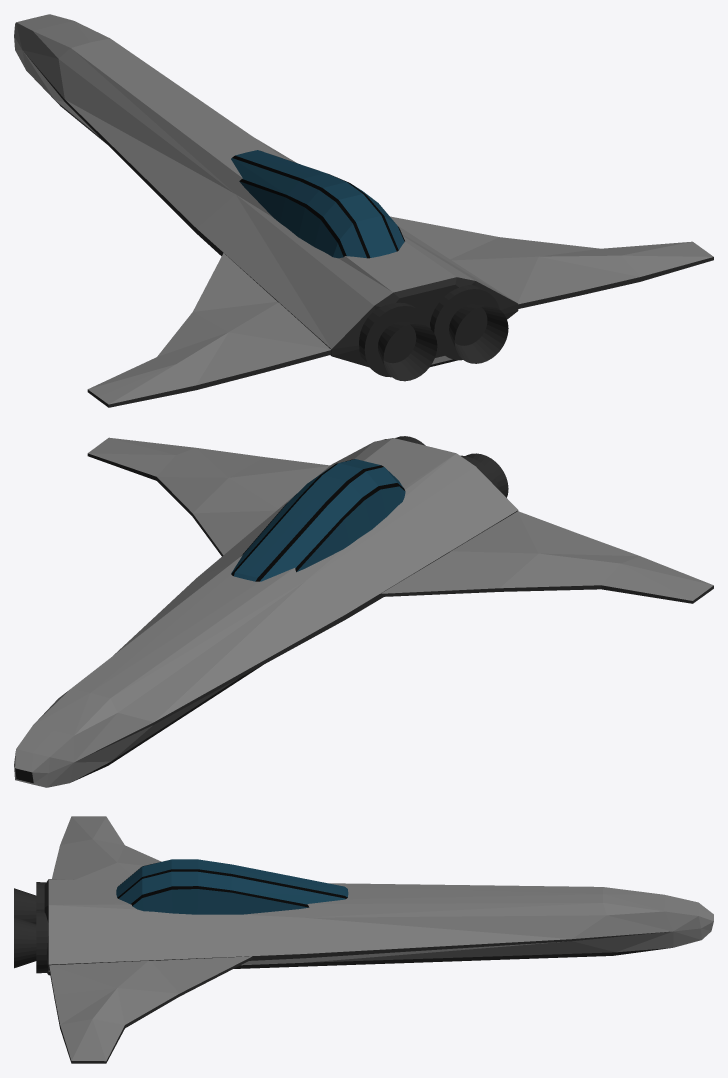
The model's file is fighter_mk1.glb.
3 renders of one model, top to bottom at view 1: azimuth 30°, elevation 25°; view 2: azimuth 150°, elevation 25°; view 3: azimuth 270°, elevation 25°, orthographic. The views are drawn at different scales.
Visible parts, largest first — view 1: fusilage, wings, cockpit, engine, funnel; view 2: fusilage, wings, cockpit, funnel; view 3: fusilage, wings, cockpit, funnel, engine.
Part boxes in pixels (box(x1,y1,x2,y2)): fusilage: box(14, 14, 518, 367); wings: box(87, 216, 713, 407); cockpit: box(231, 150, 404, 258); engine: box(359, 285, 499, 377); funnel: box(378, 304, 508, 381); fusilage: box(14, 438, 518, 787); wings: box(87, 437, 713, 603); cockpit: box(231, 459, 405, 581); funnel: box(395, 436, 508, 497); fusilage: box(44, 879, 713, 975); wings: box(49, 816, 252, 1063); cockpit: box(116, 859, 348, 914); funnel: box(14, 888, 36, 968); engine: box(36, 882, 49, 973).
Bounding box in the file's own units: 10.21 × 1.89 × 12.34.
